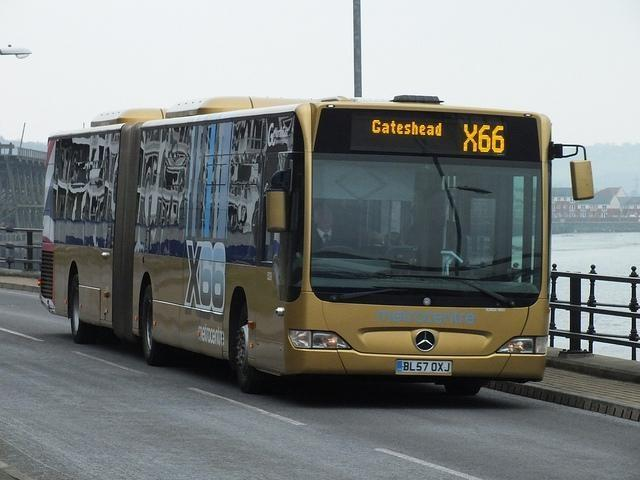bus: (40, 94, 593, 398)
